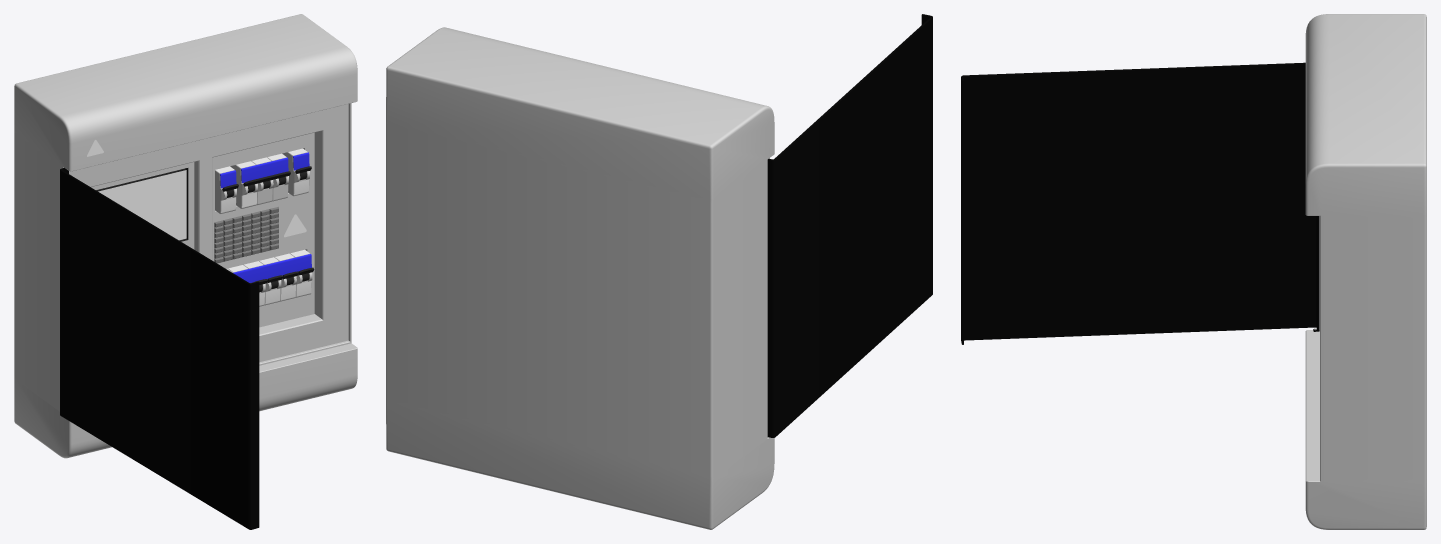
File: Power_panel.FBX
3 views of the same model, side by side, from view 1: azimuth 30°, elevation 25°; view 2: azimuth 150°, elevation 25°; view 3: azimuth 270°, elevation 25° (orthographic). The views are drawn at different scales.
Parts seen in each view (by area): view 1: Box01, Power_panel_01, Avtomat_El_V2_02, Plane11, Plane07, Plane08, Plane17, Plane15, Plane16, Cylinder07; view 2: Box01, Power_panel_01; view 3: Power_panel_01, Box01.
Boxes of the visible parts, left/top/right/bottom form: Box01: left=14, top=14, right=357, bottom=458; Power_panel_01: left=60, top=168, right=259, bottom=529; Avtomat_El_V2_02: left=241, top=157, right=288, bottom=183; Plane11: left=282, top=148, right=309, bottom=196; Plane07: left=215, top=166, right=236, bottom=213; Plane08: left=230, top=161, right=257, bottom=208; Plane17: left=289, top=249, right=312, bottom=297; Plane15: left=259, top=257, right=281, bottom=305; Plane16: left=274, top=253, right=296, bottom=301; Cylinder07: left=243, top=171, right=290, bottom=192; Box01: left=386, top=27, right=774, bottom=529; Power_panel_01: left=767, top=14, right=932, bottom=437; Power_panel_01: left=961, top=62, right=1319, bottom=344; Box01: left=1305, top=14, right=1426, bottom=529.
Bounding box in the file's own units: 341 × 377 × 435.
